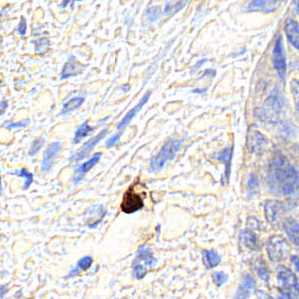Lymphocyte: (119, 183, 146, 215)
